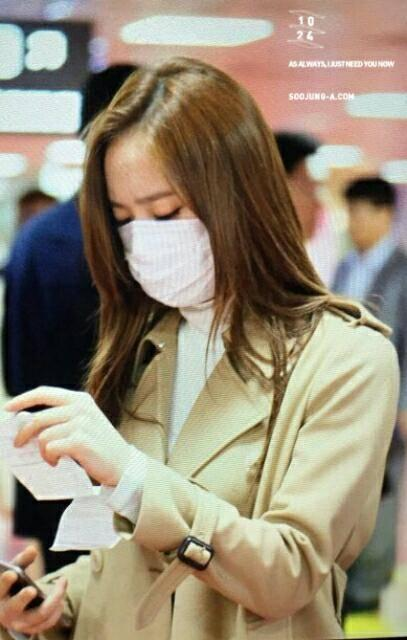OK: (105, 186, 226, 307)
